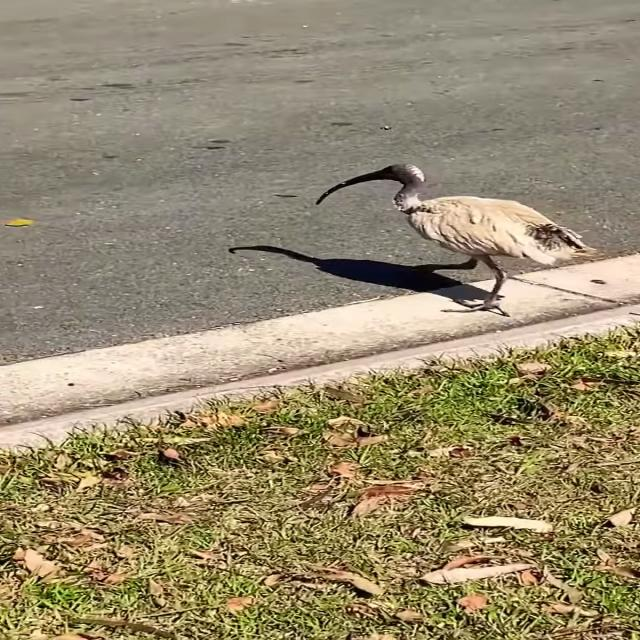Birds-Ibis: (311, 158, 611, 322)
